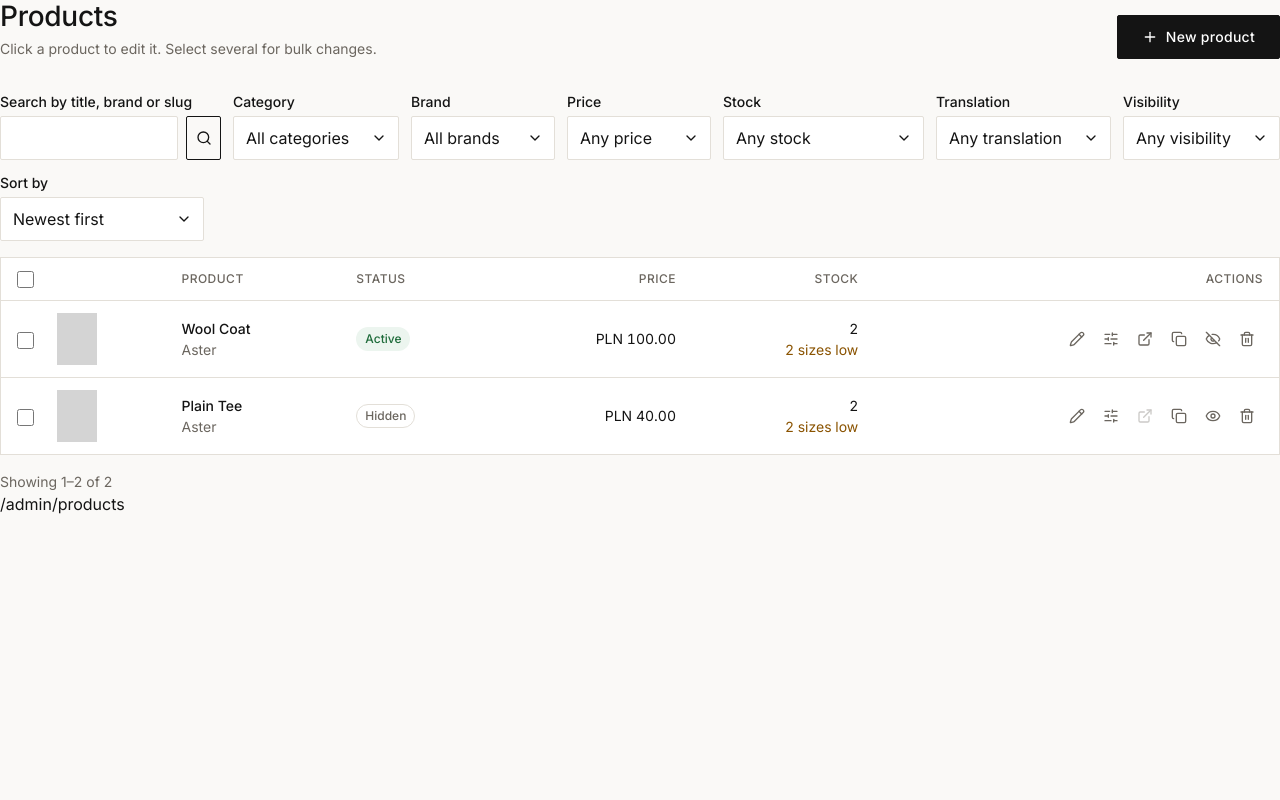
Test: ProductsList › edits price and stock in the quick edit drawer
Check: the link "Wool Coat" is shown, box [182, 320, 251, 337]
Click the button named "Quick edit price and stock of Wool Coat": (1111, 339) [1095, 323, 1127, 355]
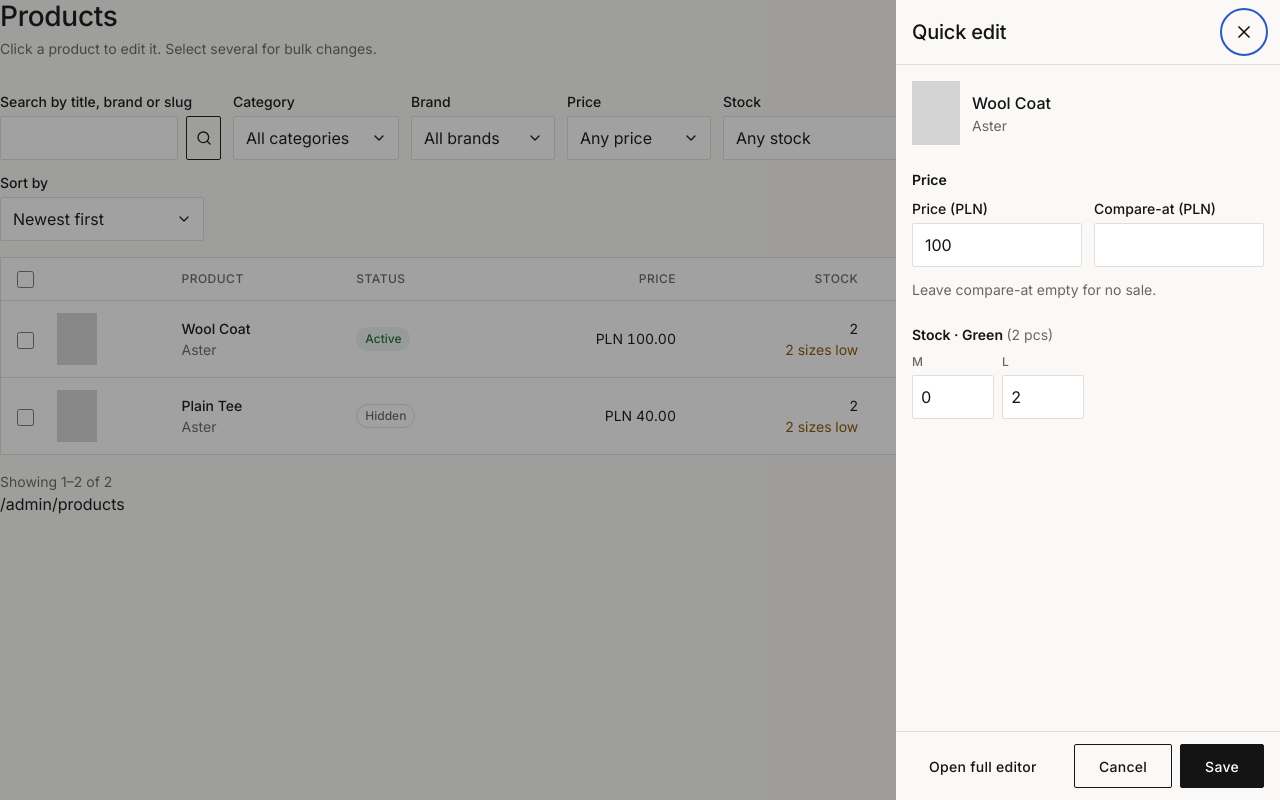
Replace the text in the number field labelled "Price (PLN)" with "90": (997, 245) [912, 223, 1082, 267]
In the number field labelled "Compare-at (PLN)": (1179, 245) [1094, 223, 1264, 267], type "80"
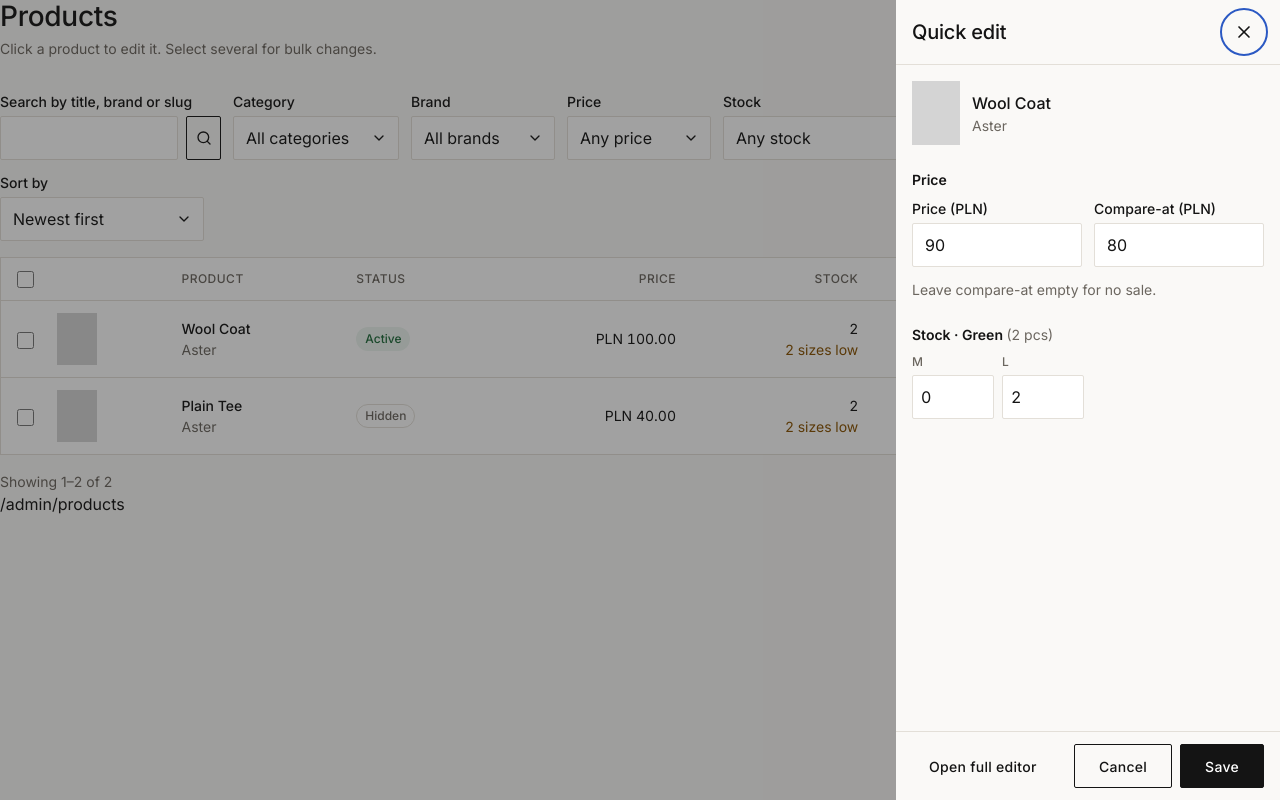
Click the button "Save": (1222, 766) [1180, 744, 1264, 788]
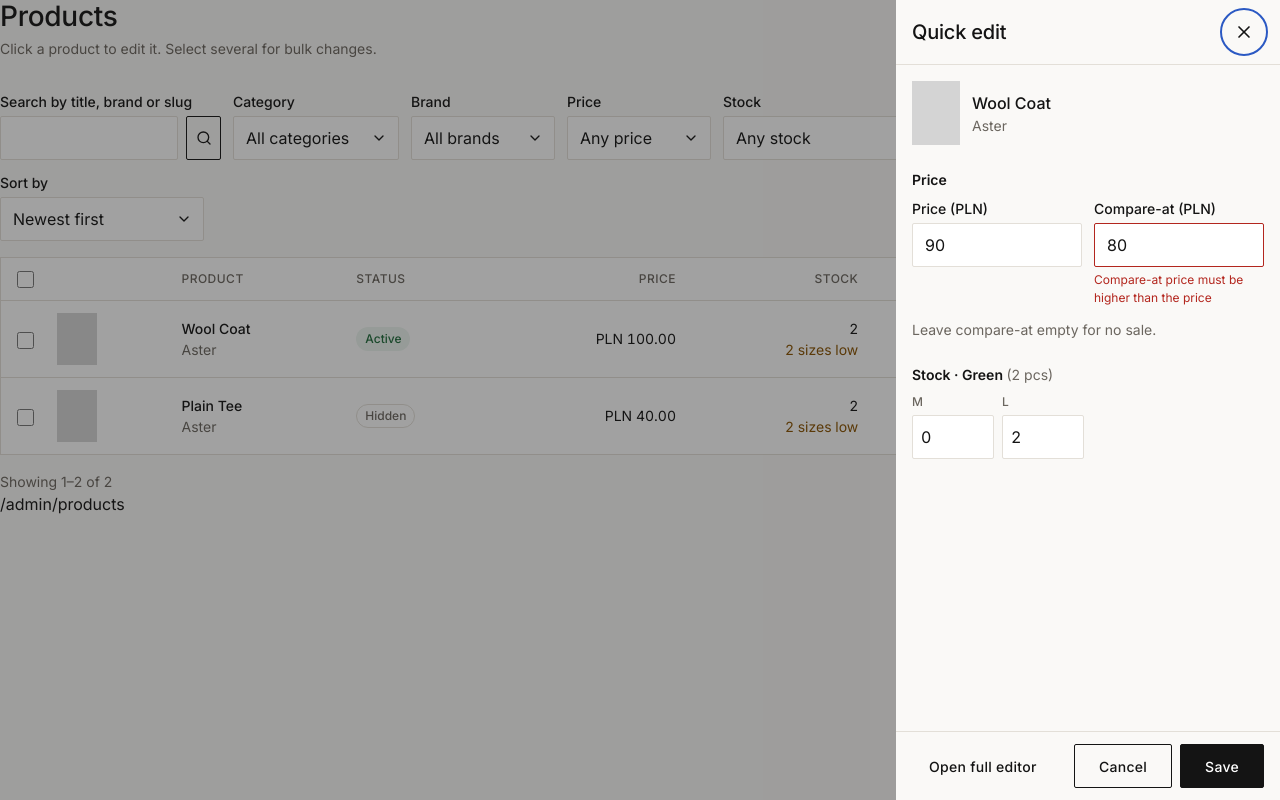
Replace the text in the number field labelled "Compare-at (PLN)" with "120": (1179, 245) [1094, 223, 1264, 267]
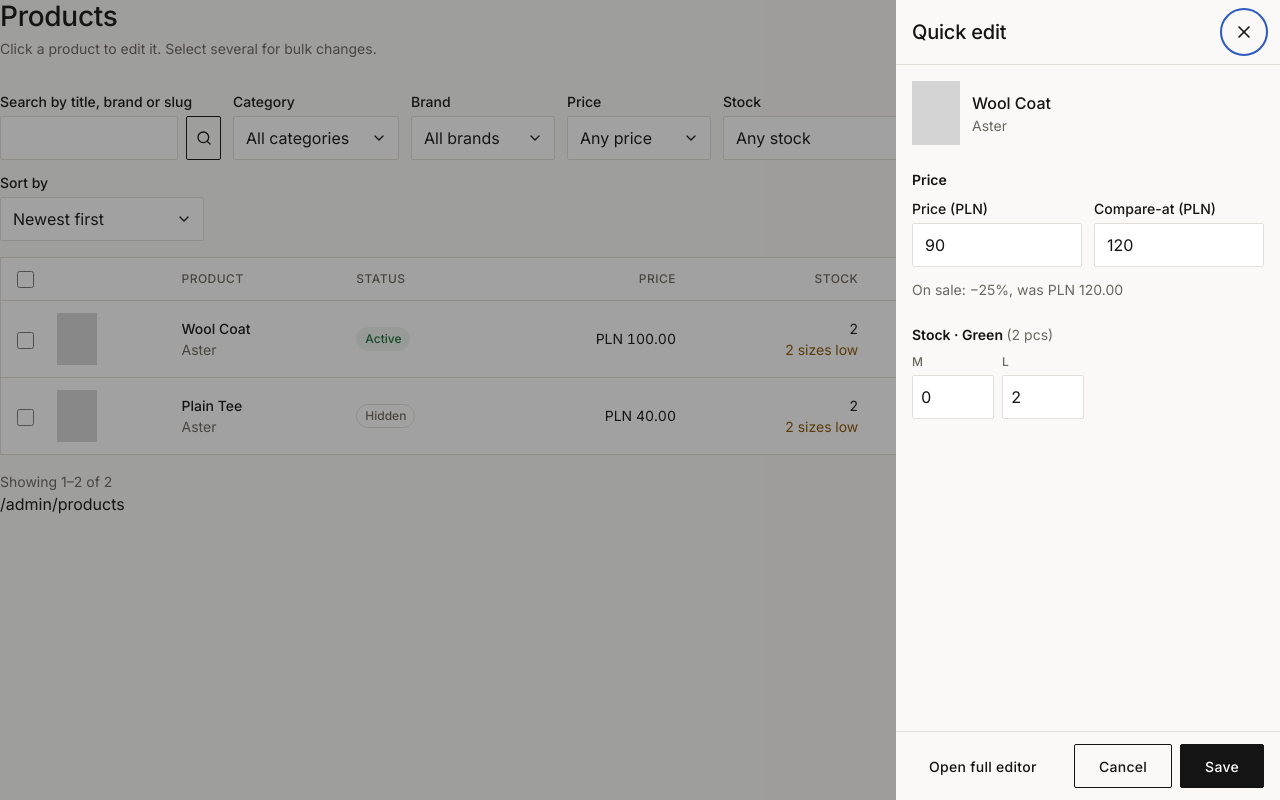
Replace the text in the number field named "Stock of green L" with "7": (1043, 397) [1002, 375, 1084, 419]
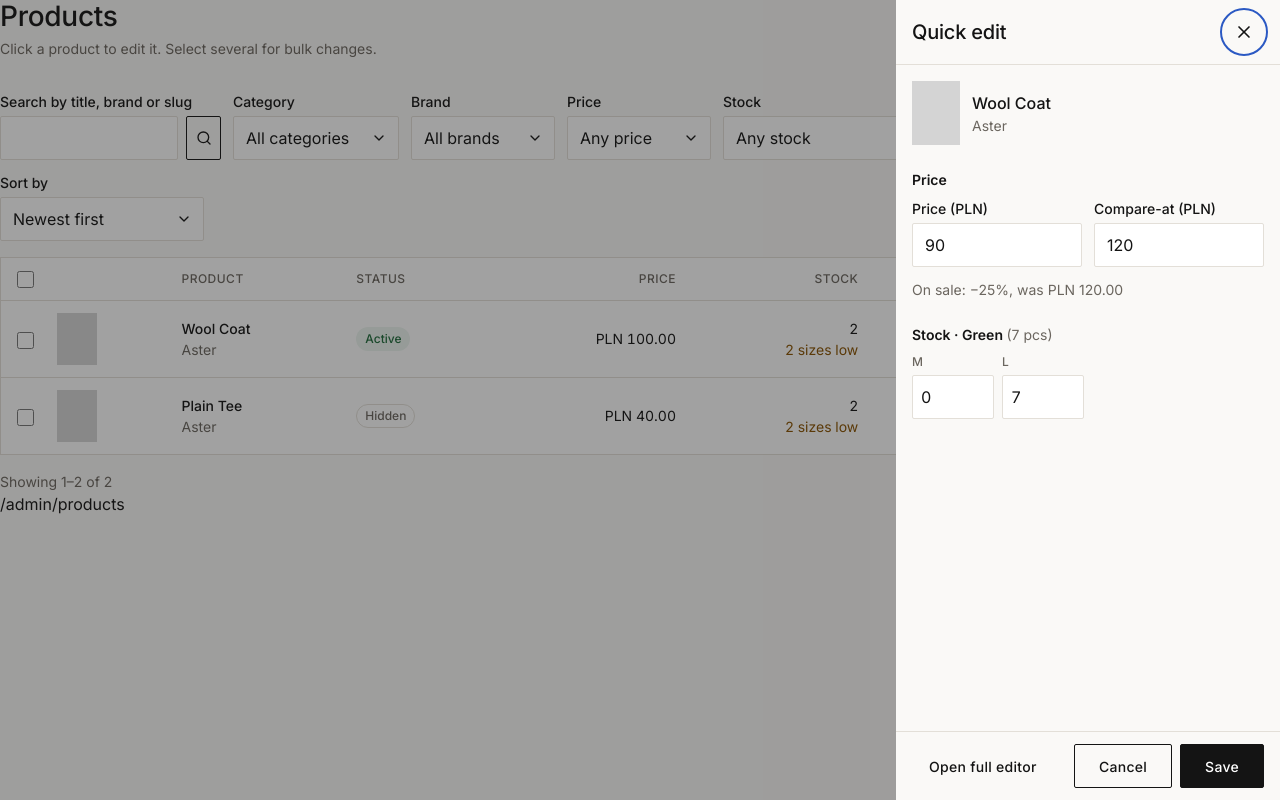
Click the button "Save": (1222, 766) [1180, 744, 1264, 788]
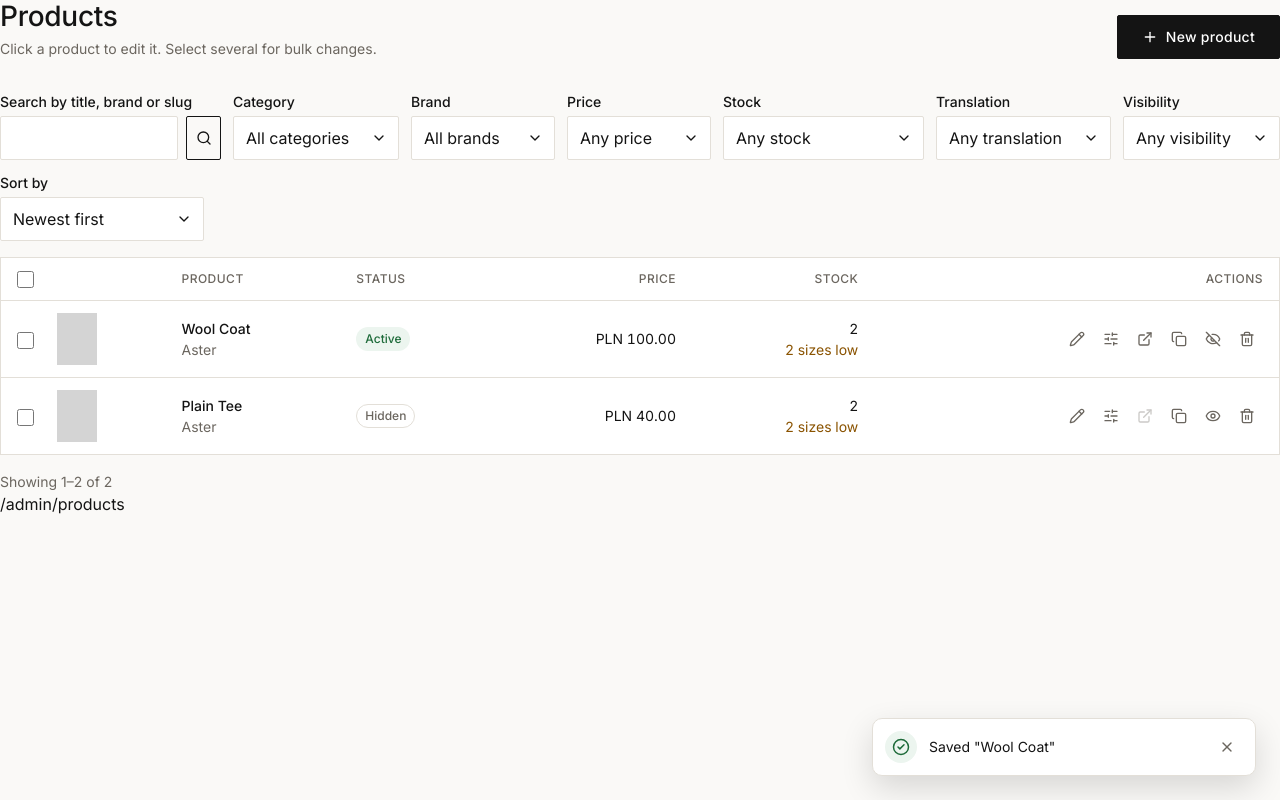
Check: the heading "Quick edit" is gone
